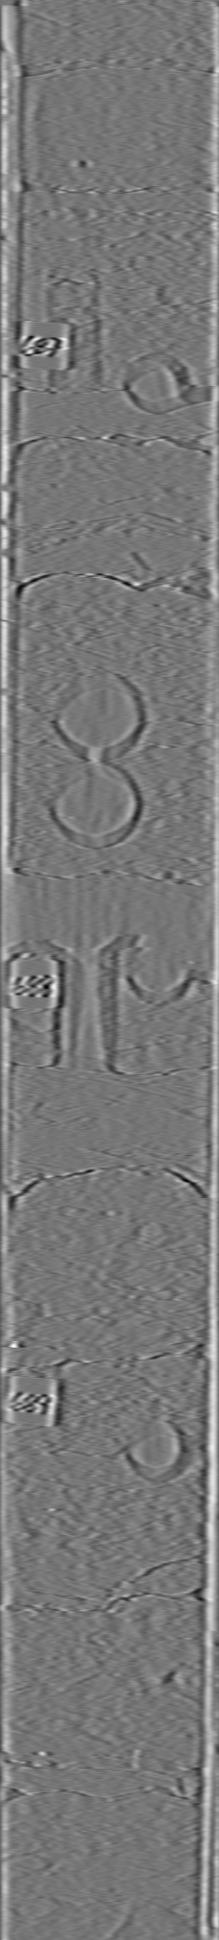hplug: (120, 1403, 195, 1488), (118, 351, 194, 419), (124, 951, 194, 1005)
scal: (49, 667, 152, 761), (45, 761, 146, 852)
vplug: (42, 949, 122, 1076), (40, 265, 108, 397)
